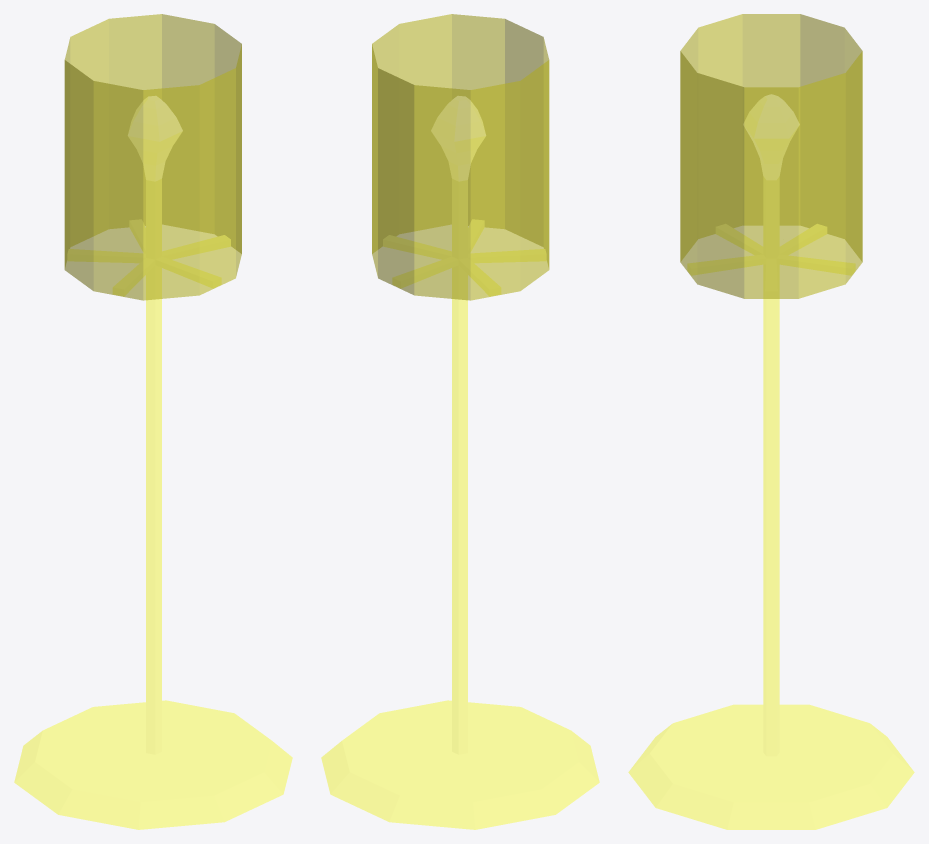
File: Lamp.glb
3 renders of one model, left to right at view 1: azimuth 30°, elevation 25°; view 2: azimuth 150°, elevation 25°; view 3: azimuth 270°, elevation 25°, orthographic.
Visible parts, largest first — view 1: Circle.001, Circle, Circle.002; view 2: Circle.001, Circle, Circle.002; view 3: Circle.001, Circle, Circle.002.
Boxes of the visible parts, x1,y1,x2,y2 form: Circle.001: (64,14,241,300); Circle: (14,179,292,829); Circle.002: (128,96,182,181); Circle.001: (372,14,549,300); Circle: (321,179,599,829); Circle.002: (431,96,485,181); Circle.001: (680,14,862,298); Circle: (628,177,914,829); Circle.002: (743,94,799,179).
Bounding box in the file's own units: 5 × 14.61 × 5.25.
Materials: 2 (1 with a texture image).
